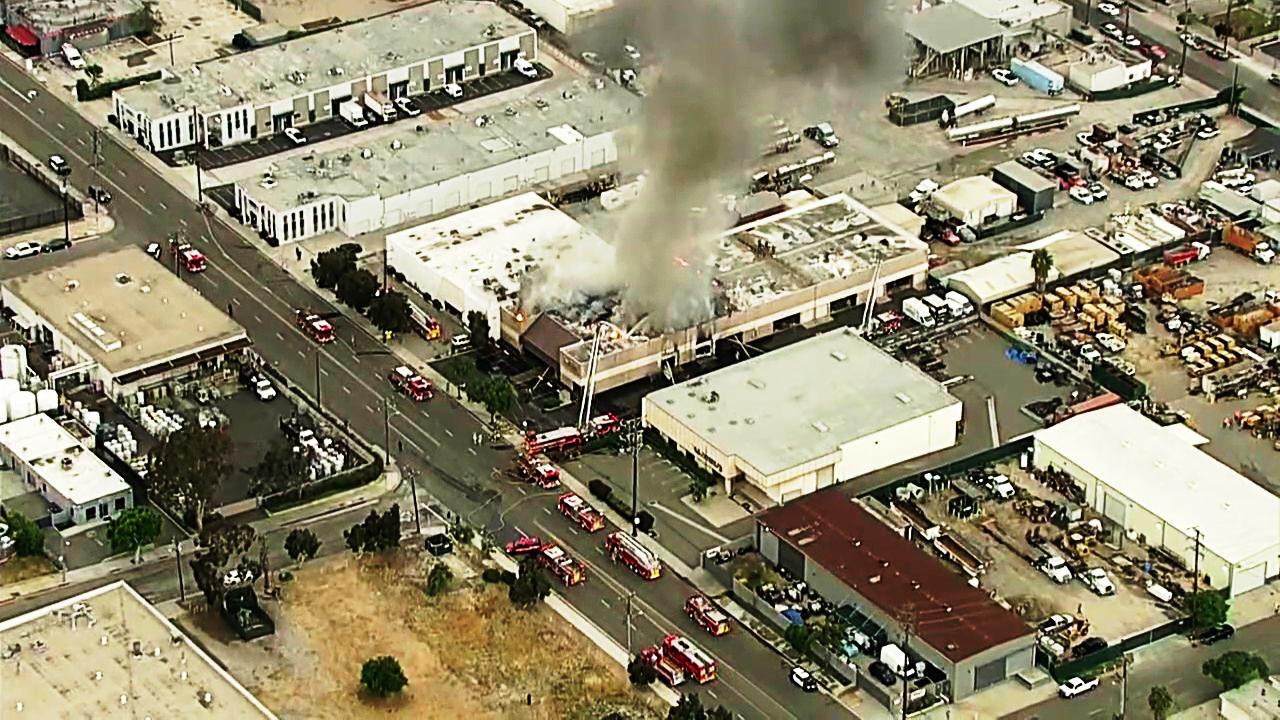fire: (637, 13, 767, 282)
